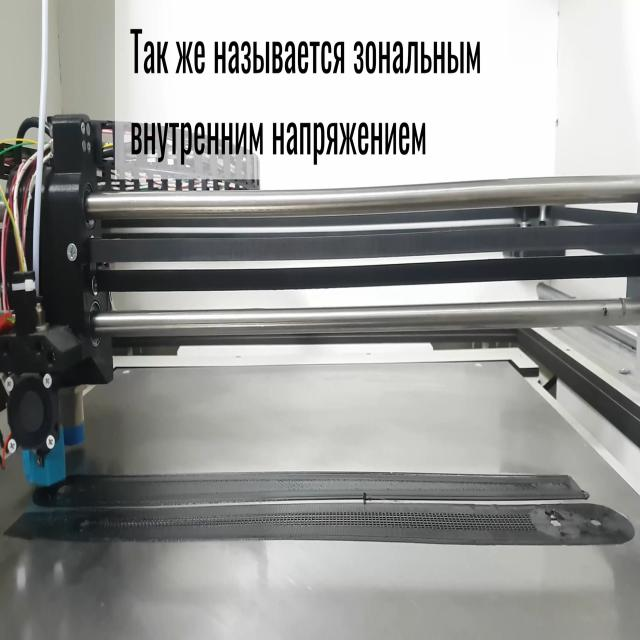Without deffect: (30, 458, 633, 562)
